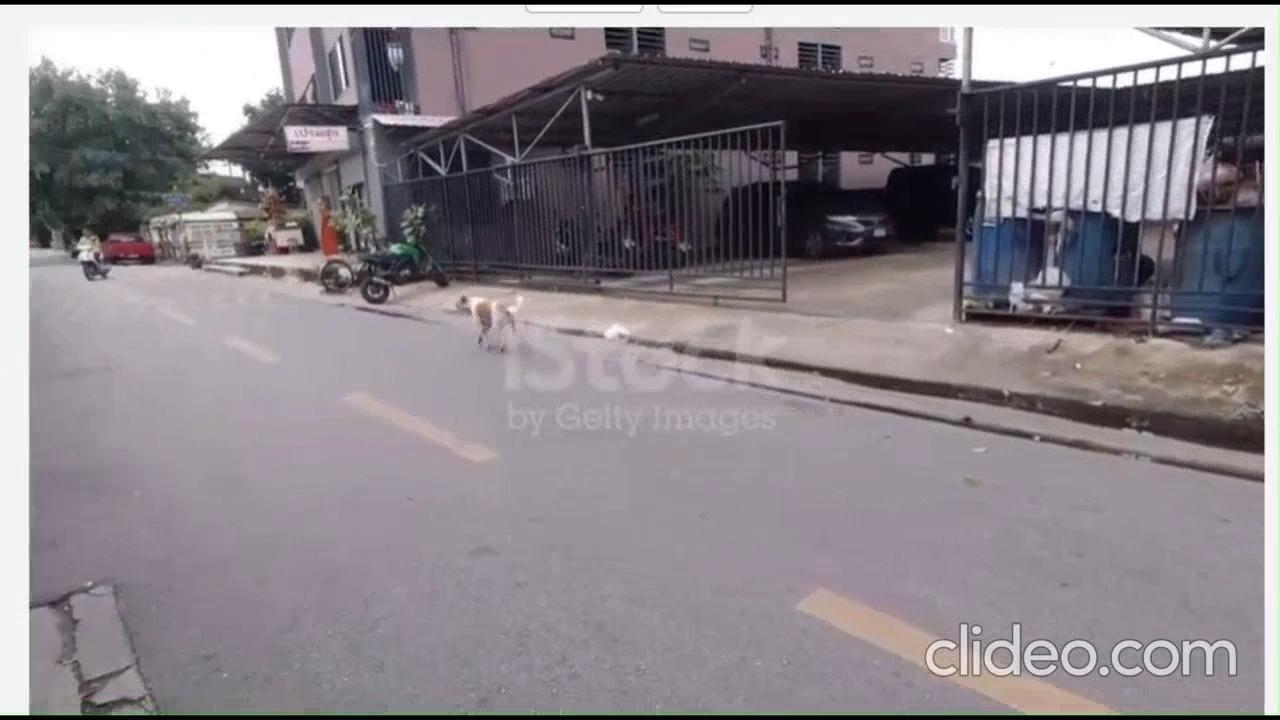dog: (444, 282, 532, 354)
